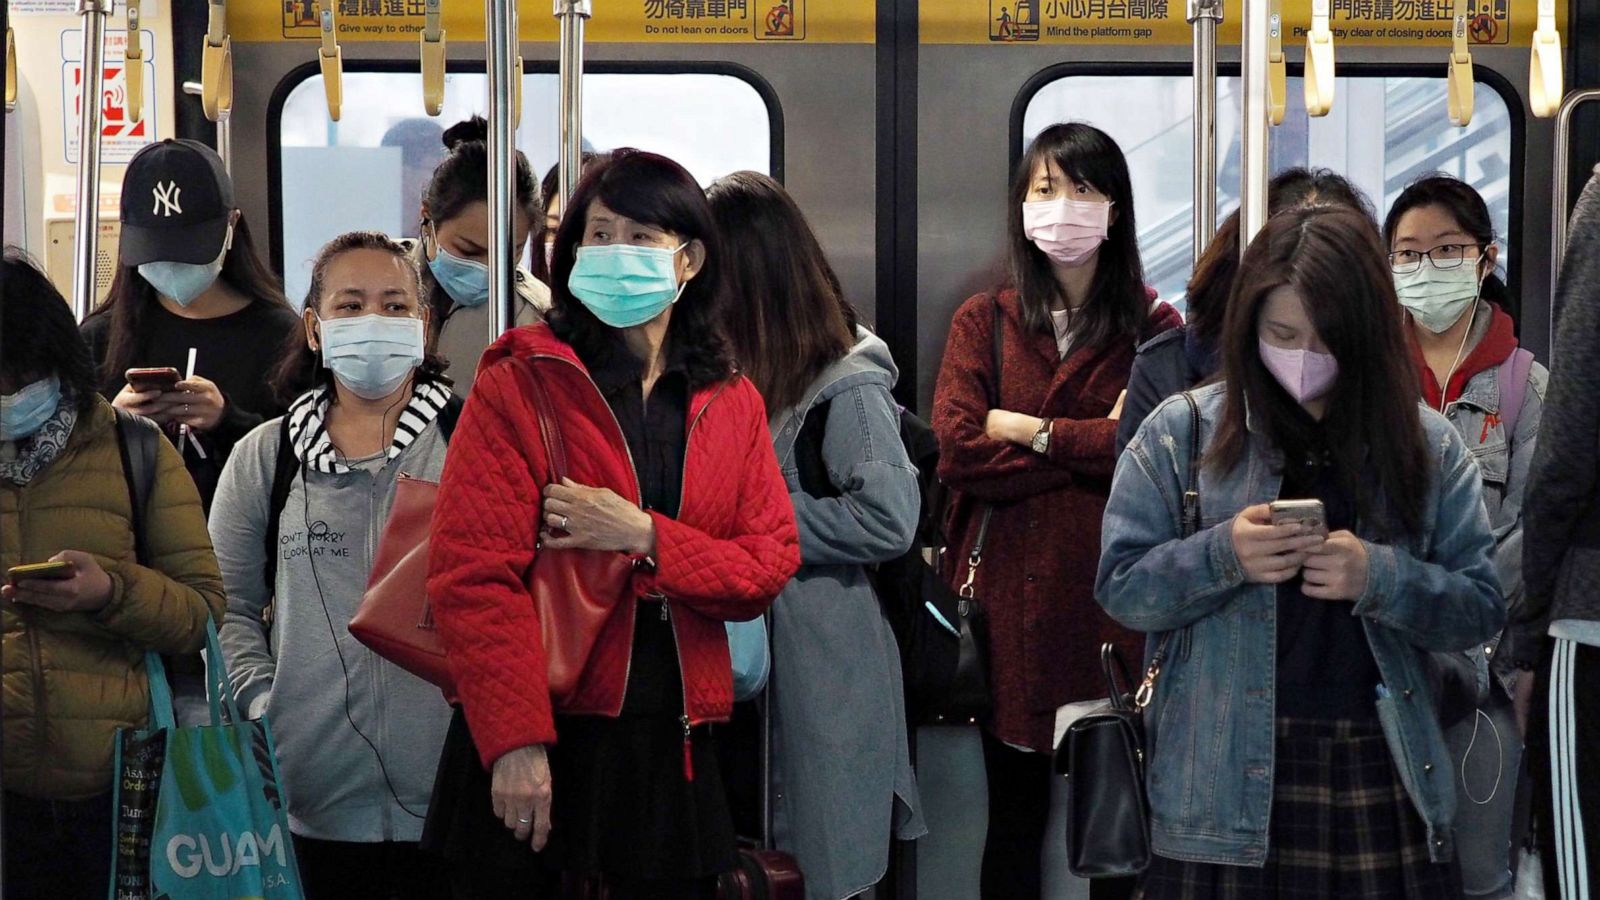with_mask: (328, 267, 414, 368), (582, 201, 673, 296), (440, 196, 521, 291), (1260, 286, 1340, 381), (1391, 218, 1470, 289), (1038, 167, 1091, 238)
